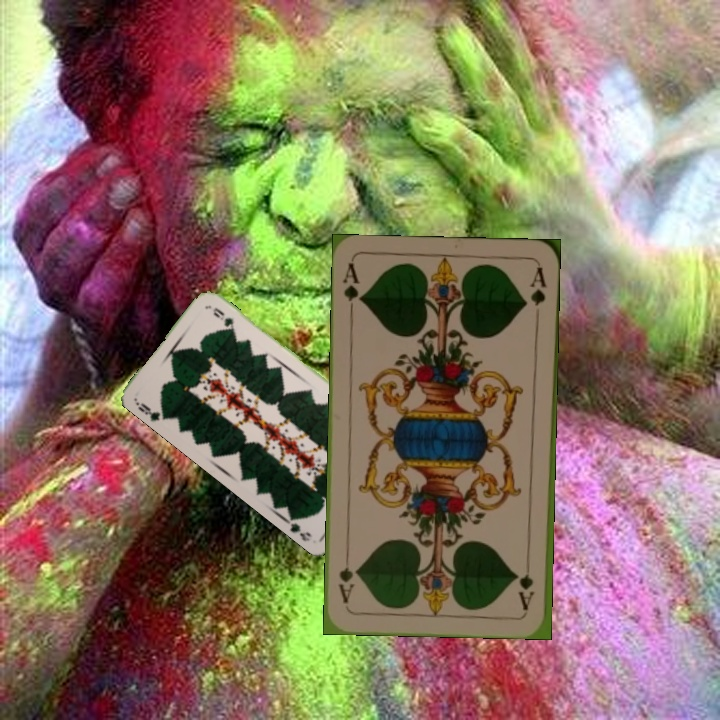G9: (131, 398, 171, 424)
GA: (338, 259, 365, 318), (517, 554, 537, 613)
